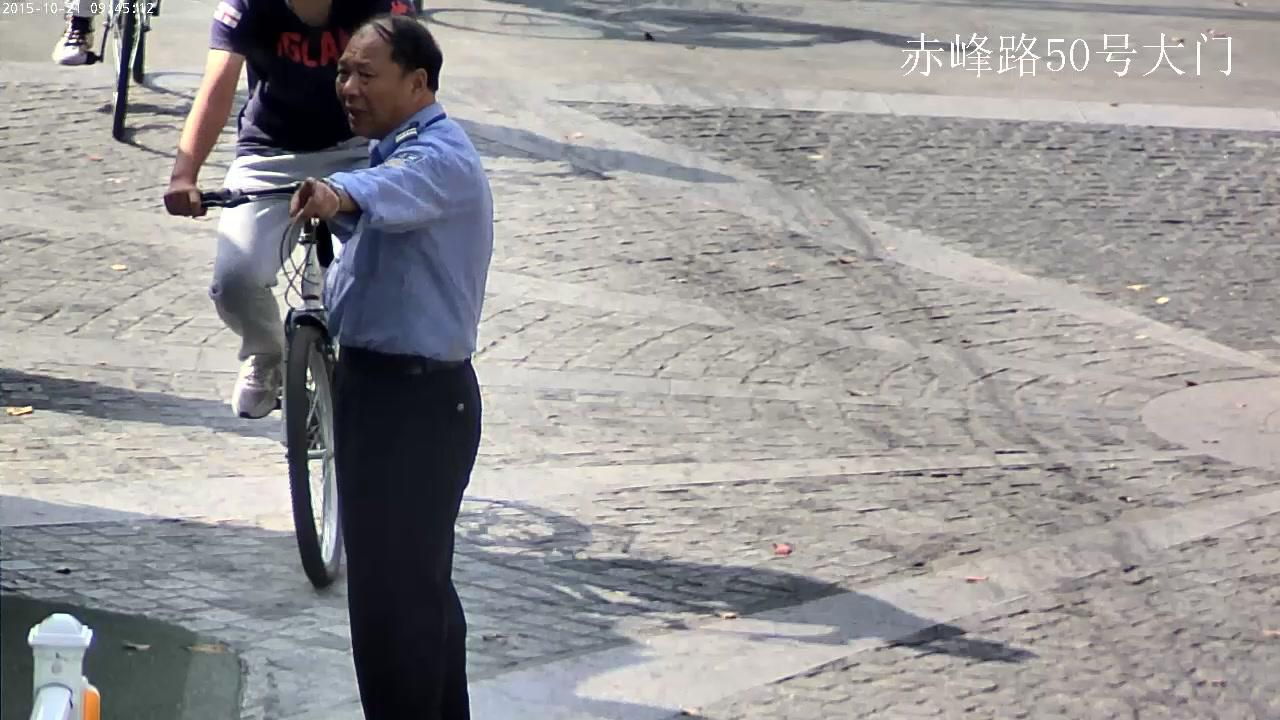face: (334, 33, 407, 136)
